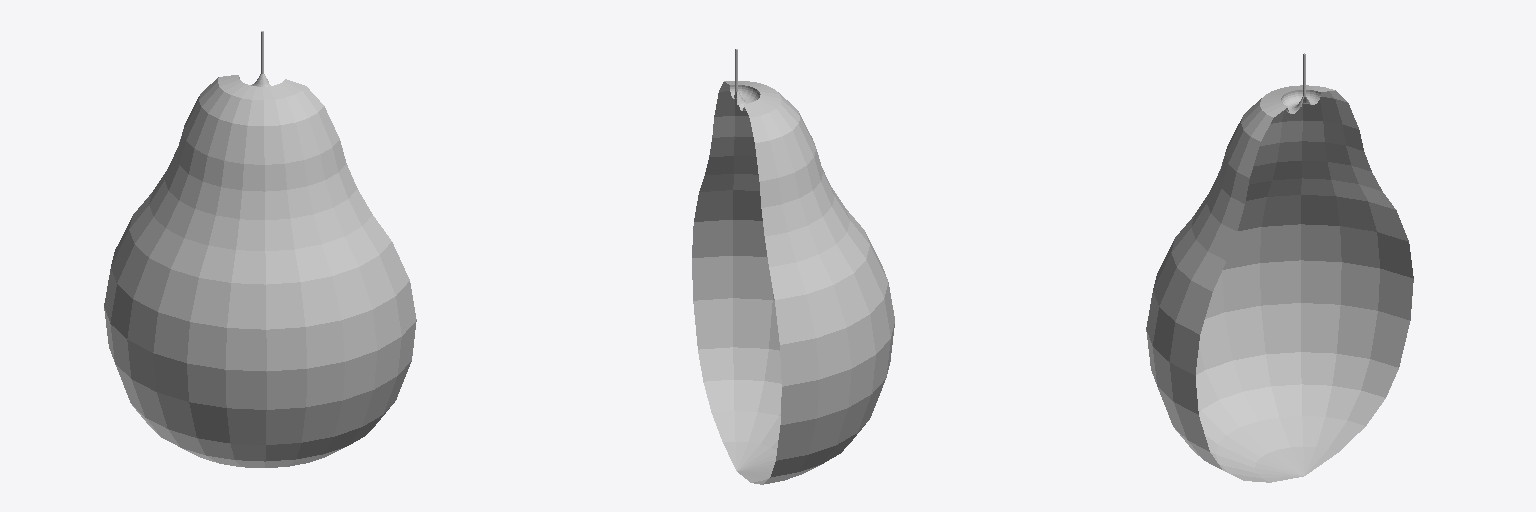
Rendered from pera_ladoa.obj.
The picture shows the model from 3 angles: view 1: azimuth 30°, elevation 25°; view 2: azimuth 150°, elevation 25°; view 3: azimuth 270°, elevation 25°; orthographic projection.
Parts seen in each view (by area): view 1: Mesh1 Group1 Model; view 2: Mesh1 Group1 Model; view 3: Mesh1 Group1 Model.
Boxes of the visible parts, <box> form: Mesh1 Group1 Model: <box>104,31,416,467</box>; Mesh1 Group1 Model: <box>692,49,894,484</box>; Mesh1 Group1 Model: <box>1146,53,1413,482</box>.
Bounding box in the file's own units: 0.1176 × 0.2004 × 0.1151.